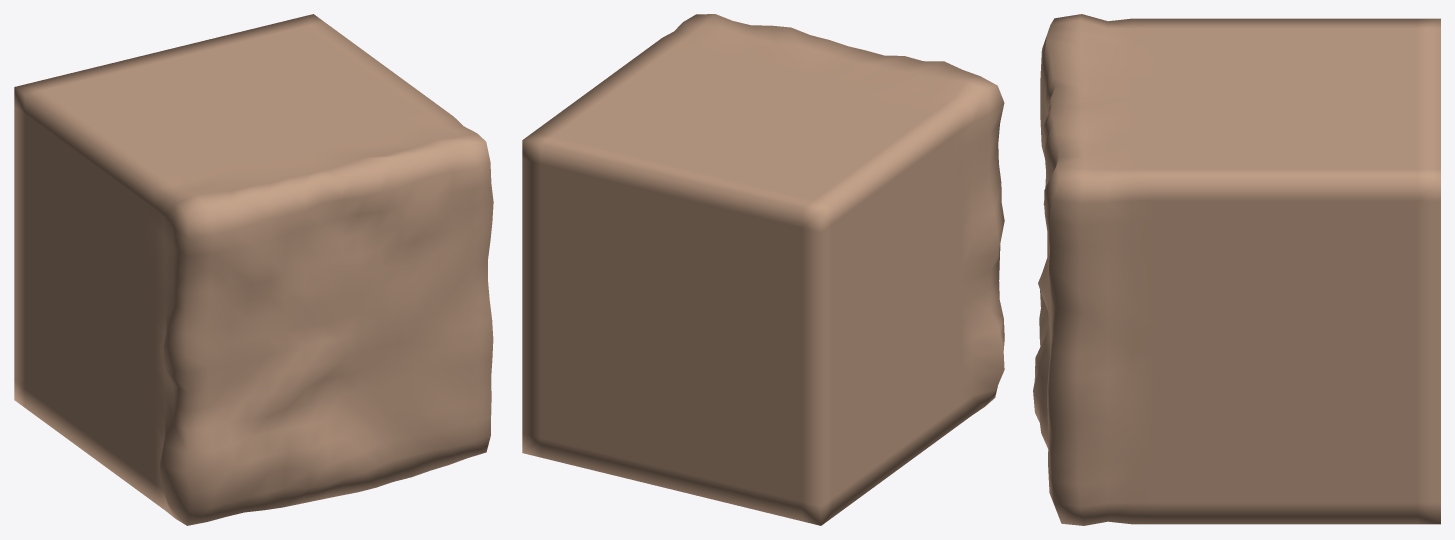
The model's file is Cliff_2_low.fbx.
The picture shows the model from 3 angles, left to right: view 1: azimuth 30°, elevation 25°; view 2: azimuth 150°, elevation 25°; view 3: azimuth 270°, elevation 25°; orthographic projection. The views are drawn at different scales.
Parts seen in each view (by area): view 1: cube; view 2: cube; view 3: cube.
Part boxes in pixels (box(x1,y1,x2,y2)): cube: box(14, 14, 493, 525); cube: box(522, 14, 1004, 525); cube: box(1033, 14, 1440, 525).
Bounding box in the file's own units: 164 × 158 × 161.
